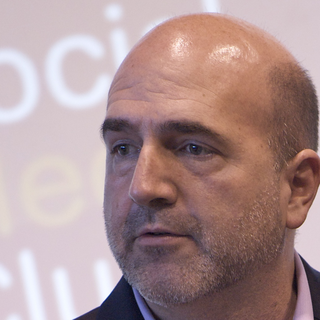eye: (169, 138, 222, 163), (102, 135, 143, 162)
